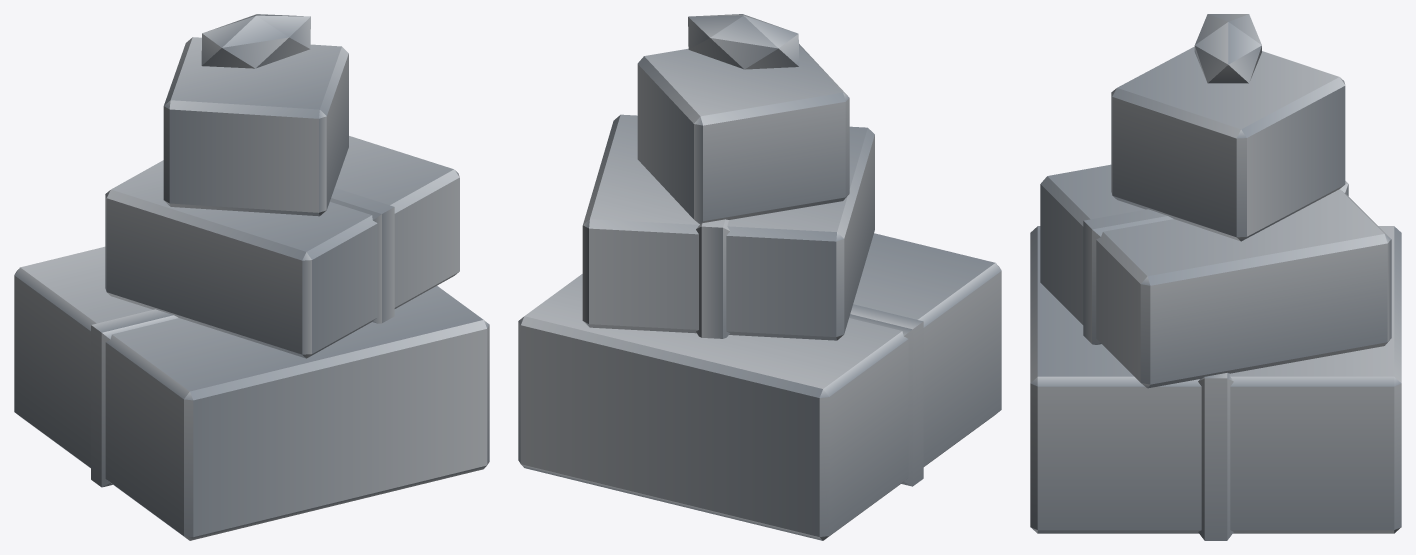
File: dt_leaning_present_stack.fbx
3 views of the same model, side by side, from view 1: azimuth 30°, elevation 25°; view 2: azimuth 150°, elevation 25°; view 3: azimuth 270°, elevation 25° (orthographic). The views are drawn at different scales.
Visible parts, largest first — view 1: dt_leaning_present_stack; view 2: dt_leaning_present_stack; view 3: dt_leaning_present_stack.
Boxes of the visible parts, x1=… form: dt_leaning_present_stack: x1=14, y1=14, x2=489, y2=540; dt_leaning_present_stack: x1=518, y1=14, x2=1001, y2=540; dt_leaning_present_stack: x1=1030, y1=14, x2=1401, y2=540.
Size of the model in its own units: 294 by 360 by 272.
